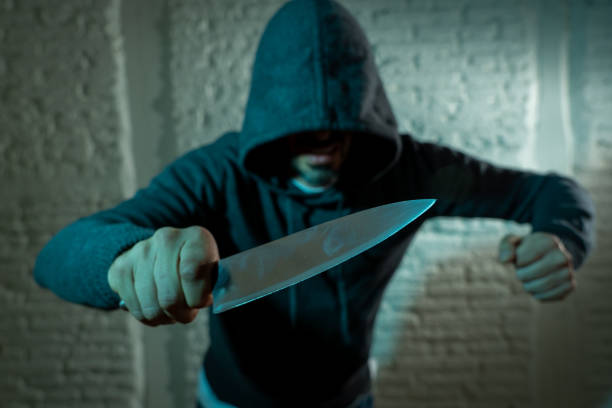knife: (210, 196, 438, 316)
